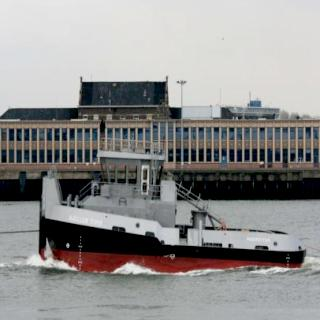Tug Boat: (30, 151, 310, 269)
